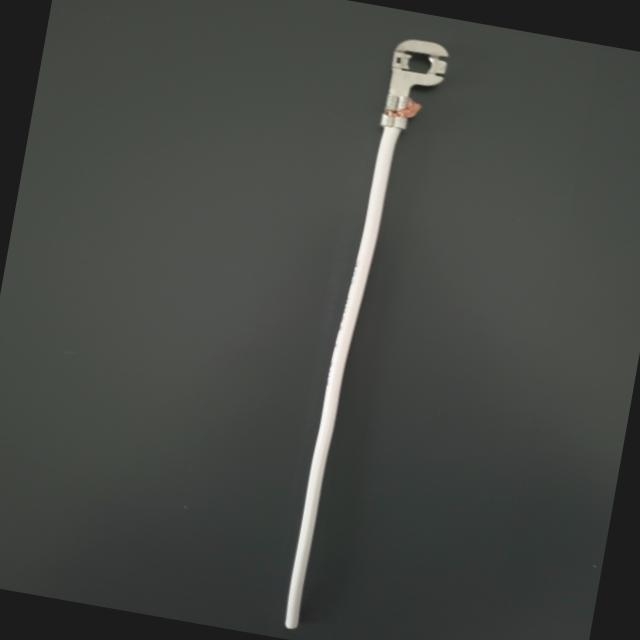defect: (222, 0, 568, 205)
